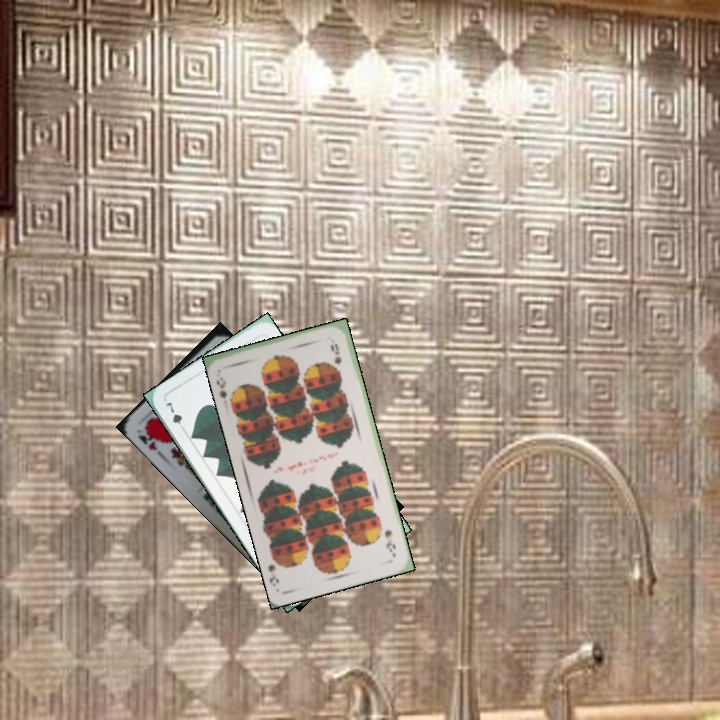G7: (161, 398, 188, 433)
HK: (134, 423, 165, 458)
S9: (212, 373, 238, 407), (380, 524, 398, 559)
